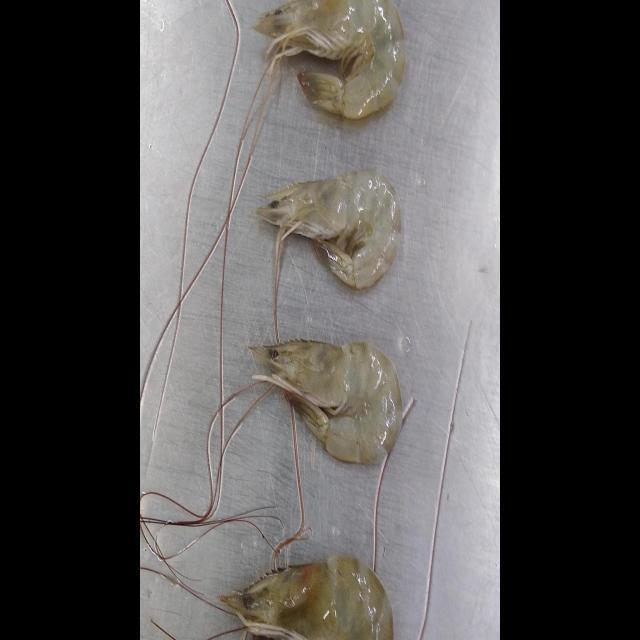shrimp: (251, 340, 402, 464), (254, 0, 406, 118), (254, 169, 401, 289), (220, 556, 394, 640)
